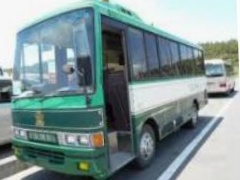bus: (5, 0, 210, 180)
